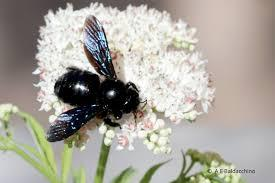Xylocopa: (46, 12, 146, 149)
